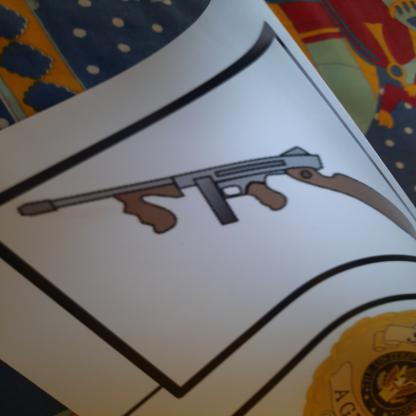Bootlegger: (1, 139, 416, 268)
G-man: (287, 290, 416, 416)
